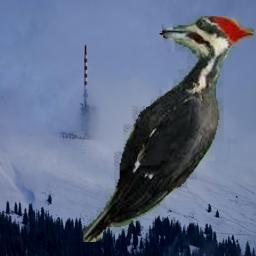Woodpecker: (80, 16, 254, 242)
